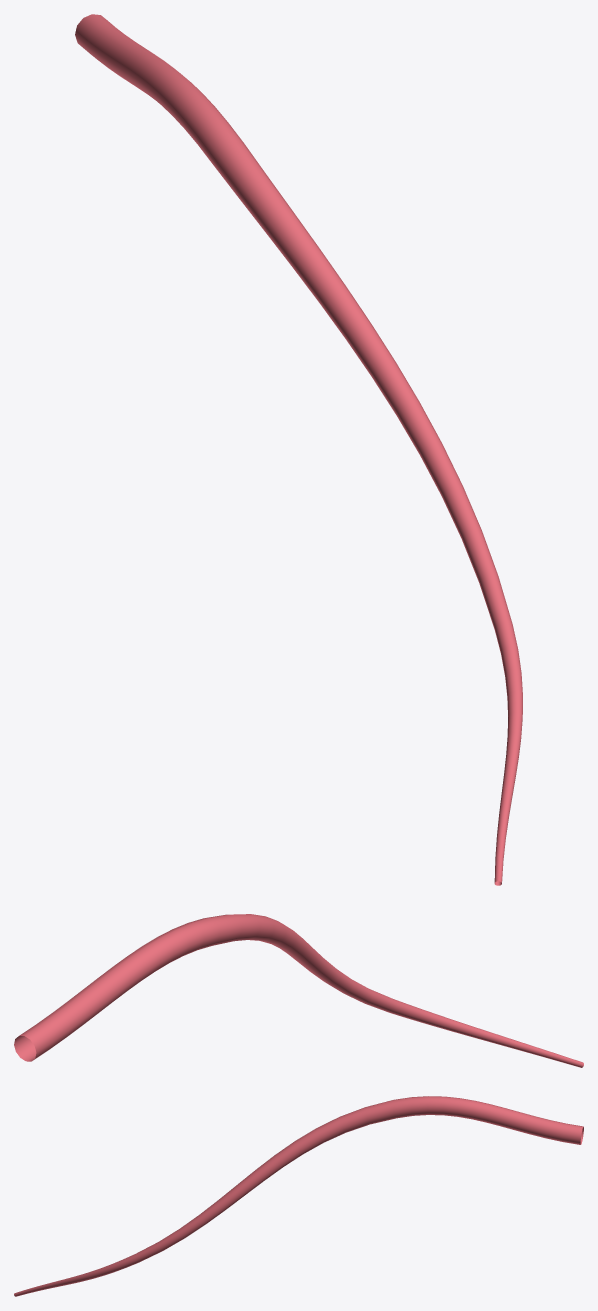
3 renders of one model, top to bottom at view 1: azimuth 30°, elevation 25°; view 2: azimuth 150°, elevation 25°; view 3: azimuth 270°, elevation 25°, orthographic. The views are drawn at different scales.
Visible parts, largest first — view 1: ZA_ff28a2785156242b; view 2: ZA_ff28a2785156242b; view 3: ZA_ff28a2785156242b.
Boxes of the visible parts, x1,y1,x2,y2 form: ZA_ff28a2785156242b: (75,14,522,885); ZA_ff28a2785156242b: (14,914,583,1067); ZA_ff28a2785156242b: (14,1096,583,1296).
Size of the model in its own units: 0.00551 by 0.0133 by 0.0301.
